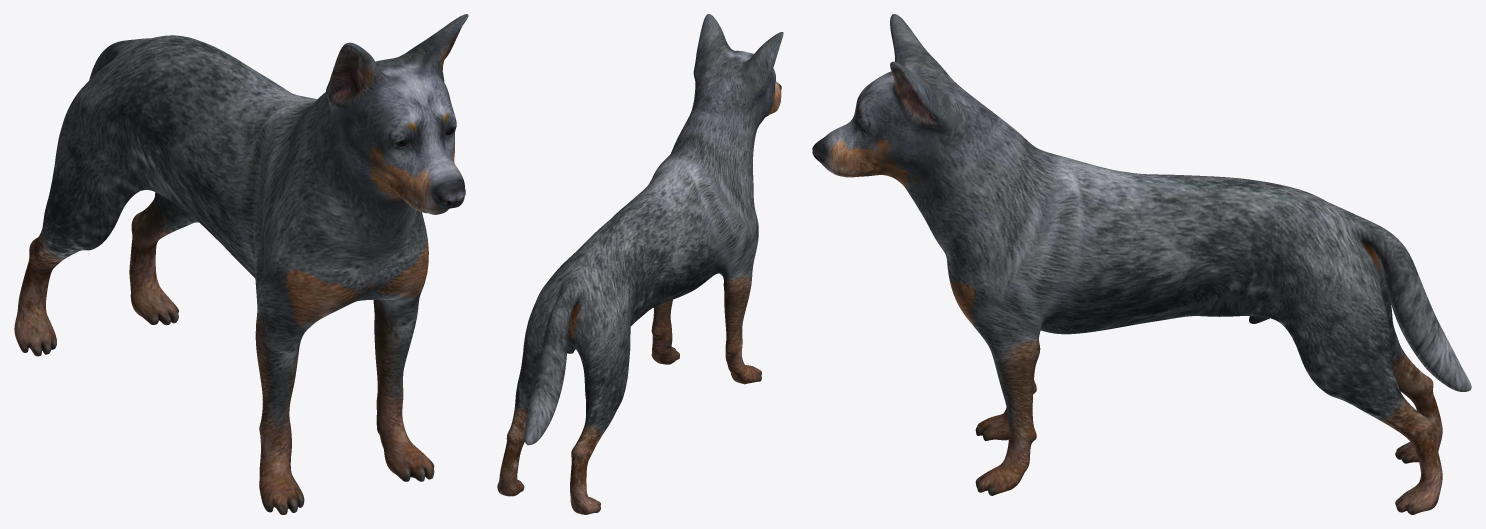
The picture shows the model from 3 angles, left to right: view 1: azimuth 30°, elevation 25°; view 2: azimuth 150°, elevation 25°; view 3: azimuth 270°, elevation 25°; orthographic projection. The views are drawn at different scales.
Parts seen in each view (by area): view 1: 13463_Australian_Cattle_Dog_v3; view 2: 13463_Australian_Cattle_Dog_v3; view 3: 13463_Australian_Cattle_Dog_v3.
Boxes of the visible parts, x1,y1,x2,y2 form: 13463_Australian_Cattle_Dog_v3: (14,14,468,514); 13463_Australian_Cattle_Dog_v3: (497,14,783,514); 13463_Australian_Cattle_Dog_v3: (812,14,1471,514).
Size of the model in its own units: 9.36 by 28.28 by 37.86.
1 material, 1 textured.
